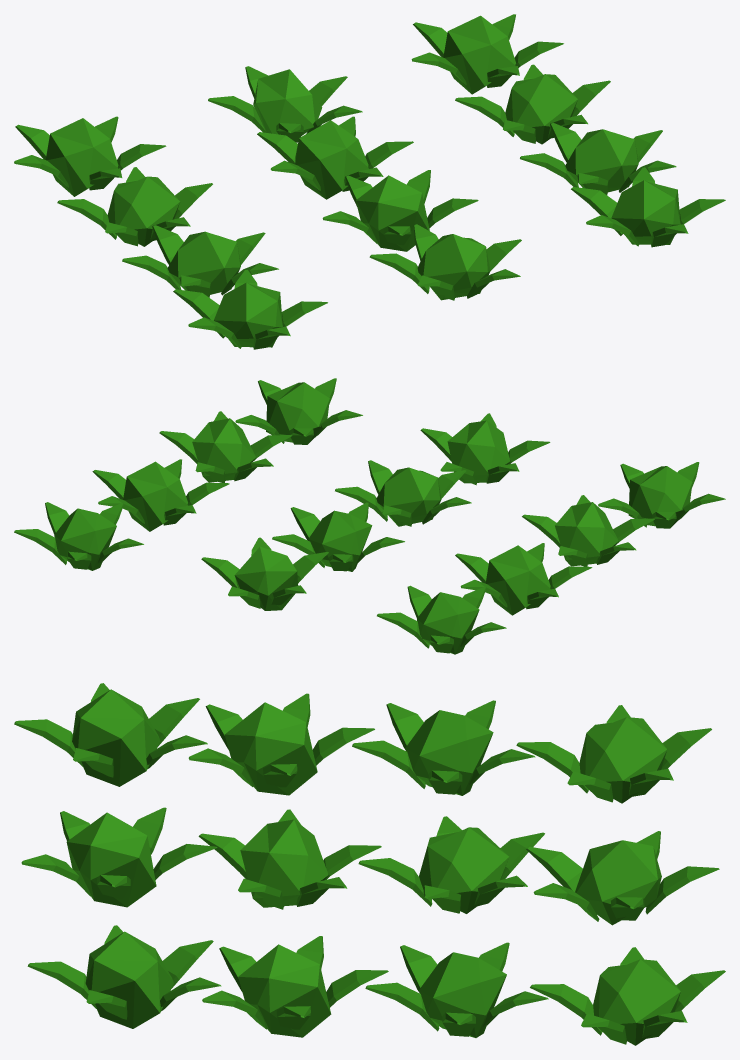
Rendered from grupo lechugas.FBX.
3 renders of one model, top to bottom at view 1: azimuth 30°, elevation 25°; view 2: azimuth 150°, elevation 25°; view 3: azimuth 270°, elevation 25°, orthographic. The views are drawn at different scales.
Parts seen in each view (by area): view 1: lechuga11, lechuga03, lechuga06, lechuga04, lechuga05, lechuga09, lechuga01, lechuga00, lechuga08, lechuga07, lechuga02, lechuga10; view 2: lechuga02, lechuga10, lechuga05, lechuga07, lechuga03, lechuga11, lechuga01, lechuga09, lechuga04, lechuga06, lechuga00, lechuga08; view 3: lechuga00, lechuga08, lechuga04, lechuga09, lechuga01, lechuga07, lechuga11, lechuga03, lechuga10, lechuga02, lechuga06, lechuga05.
Part boxes in pixels (x1,y1,x2,y2): lechuga11: (411,14,563,94); lechuga03: (14,116,166,196); lechuga06: (257,116,413,199); lechuga04: (369,224,521,300); lechuga05: (322,170,478,251); lechuga09: (520,123,676,194); lechuga01: (122,225,278,297); lechuga00: (173,269,327,349); lechuga08: (571,167,725,247); lechuga07: (208,66,362,142); lechuga02: (57,167,212,246); lechuga10: (455,64,610,144); lechuga02: (455,543,592,615); lechuga10: (92,459,229,531); lechuga05: (335,460,471,526); lechuga07: (201,537,328,610); lechuga03: (377,585,506,654); lechuga11: (14,502,143,570); lechuga01: (522,495,654,566); lechuga09: (159,411,292,482); lechuga04: (420,413,550,485); lechuga06: (272,502,404,571); lechuga00: (598,462,725,528); lechuga08: (235,378,362,444); lechuga00: (14,683,207,786); lechuga08: (27,925,221,1028); lechuga04: (21,807,217,907); lechuga09: (202,936,388,1037); lechuga01: (188,693,374,795); lechuga07: (526,831,719,925); lechuga11: (530,947,725,1045); lechuga03: (516,705,711,803); lechuga10: (365,942,548,1037); lechuga02: (352,700,535,795); lechuga06: (358,816,544,913); lechuga05: (198,809,381,909).
Size of the model in its own units: 95.33 by 10.99 by 83.57.
